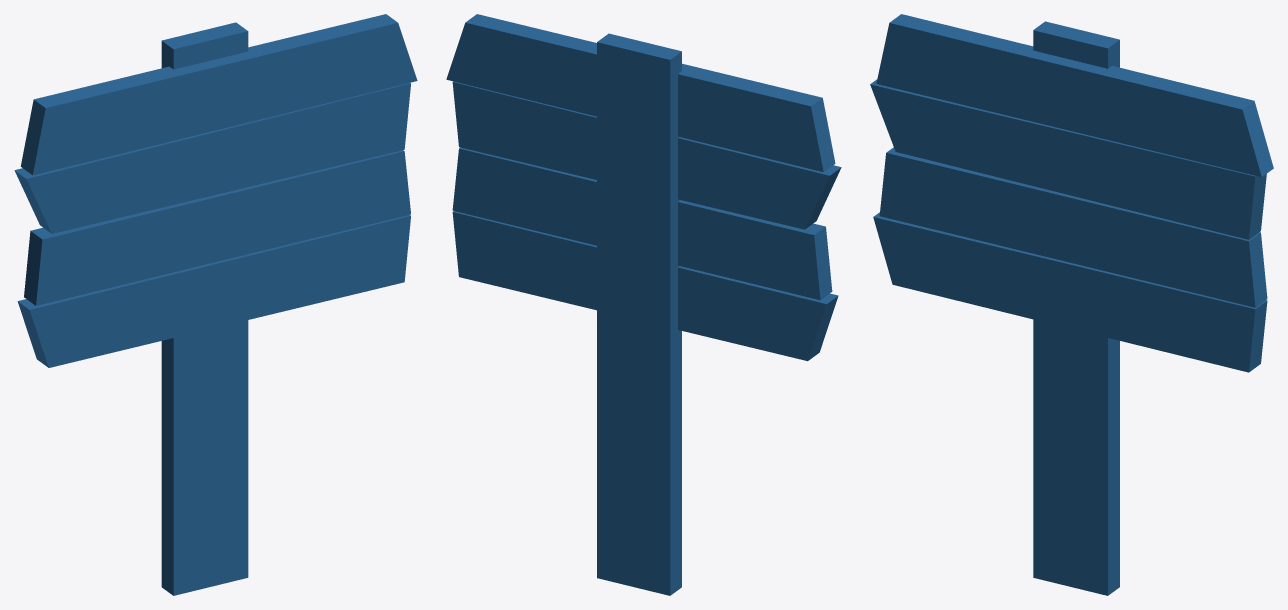
File: BewareOfSign.fbx
3 views of the same model, side by side, from view 1: azimuth 30°, elevation 25°; view 2: azimuth 150°, elevation 25°; view 3: azimuth 330°, elevation 25° (orthographic). The views are drawn at different scales.
Parts seen in each view (by area): view 1: Box001; view 2: Box001; view 3: Box001.
Part boxes in pixels (x1,y1,x2,y2): Box001: (14,14,417,595); Box001: (446,14,841,595); Box001: (870,14,1273,595).
Bounding box in the file's own units: 12.98 × 17.33 × 1.14.
